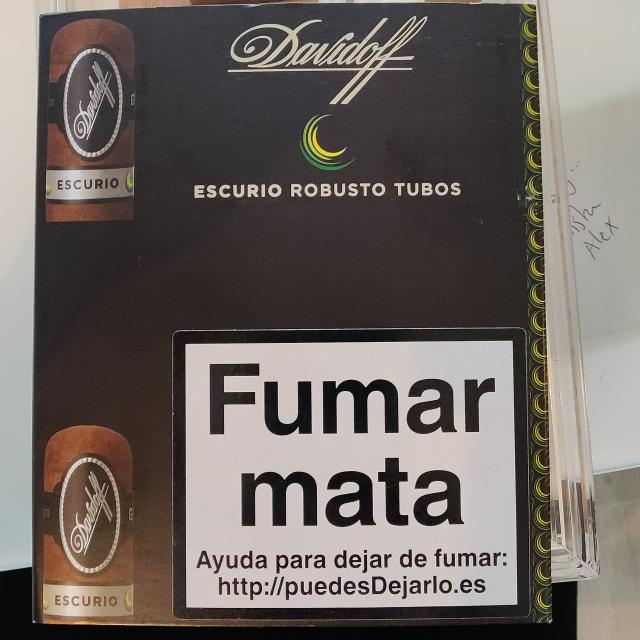Davidoff: (228, 16, 428, 104), (71, 471, 113, 557), (74, 61, 115, 140)
